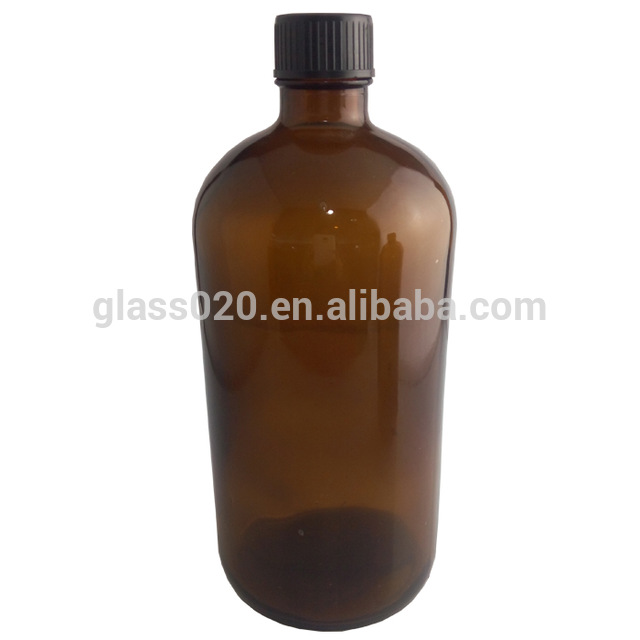bottle: (187, 3, 451, 640)
